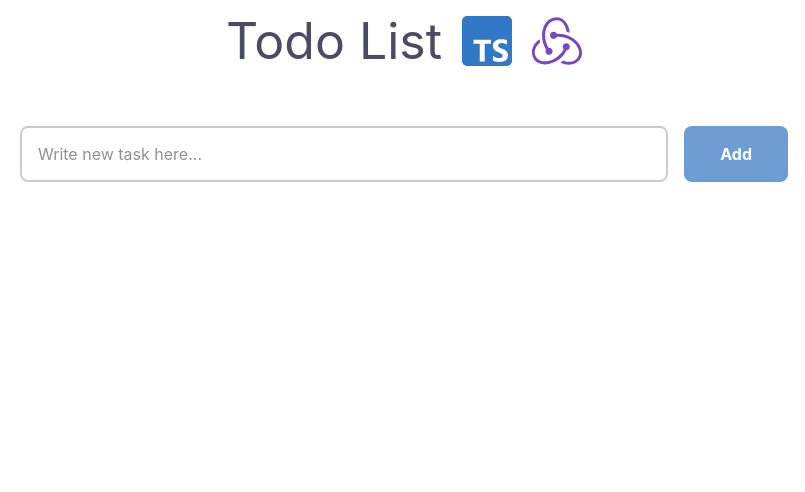
Test: My First E2E Test › checks todos header visiability
Expected: the text "Todo number one" is not shown
Type "Todo number one" into the field with id "new-todo-input".
click(344, 154); type("Todo number one")  # box [20,126,668,182]
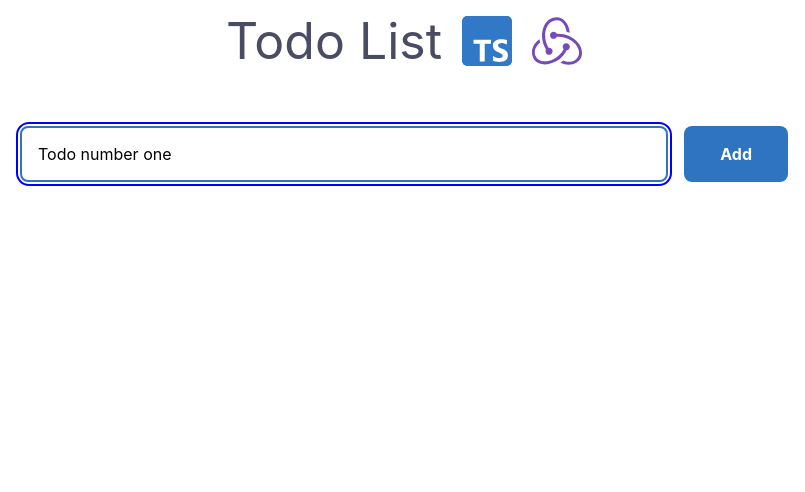
Click the button "Add".
click(736, 154)  # box [684,126,788,182]
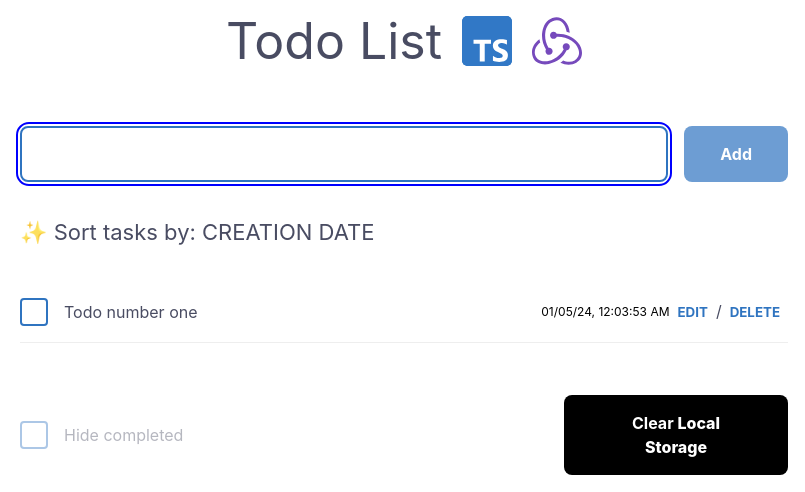
Expected: the checkbox "Todo number one" is shown, [64,300,198,324]
Expected: the number of elements with class "todo-item" is 1, [20,282,788,343]
Expected: the element with class "sorting" is shown, [20,219,374,245]
